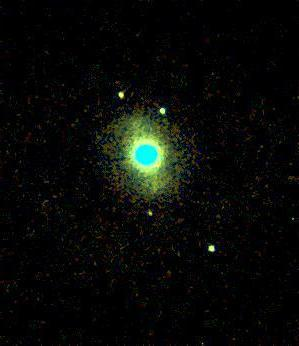star: (135, 198, 165, 228)
